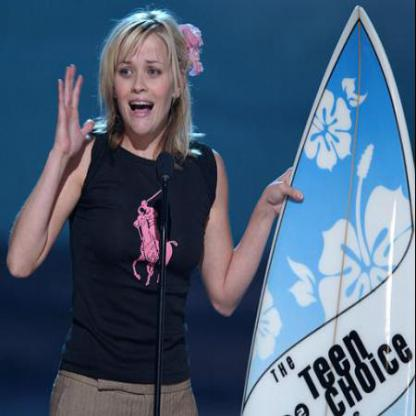face: (116, 14, 178, 138)
